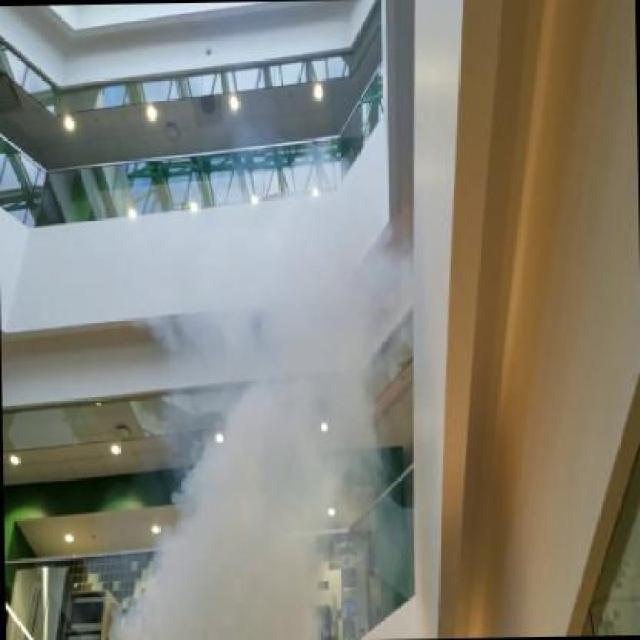fire: (120, 209, 382, 640)
